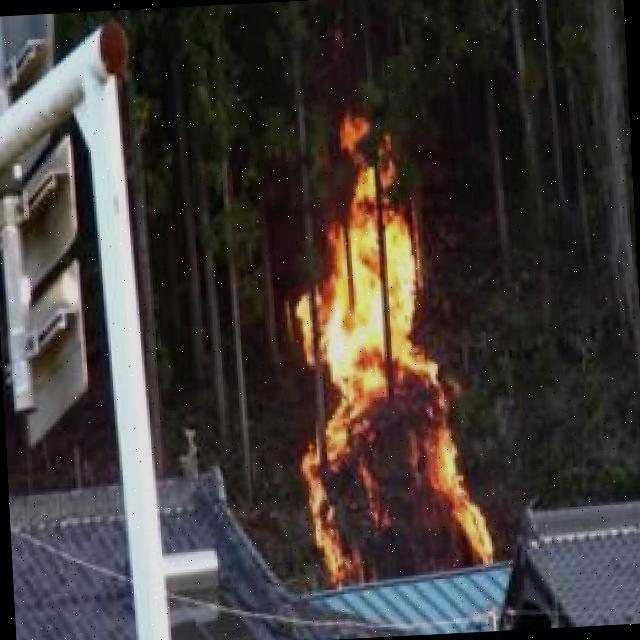Fire: (282, 101, 491, 590)
